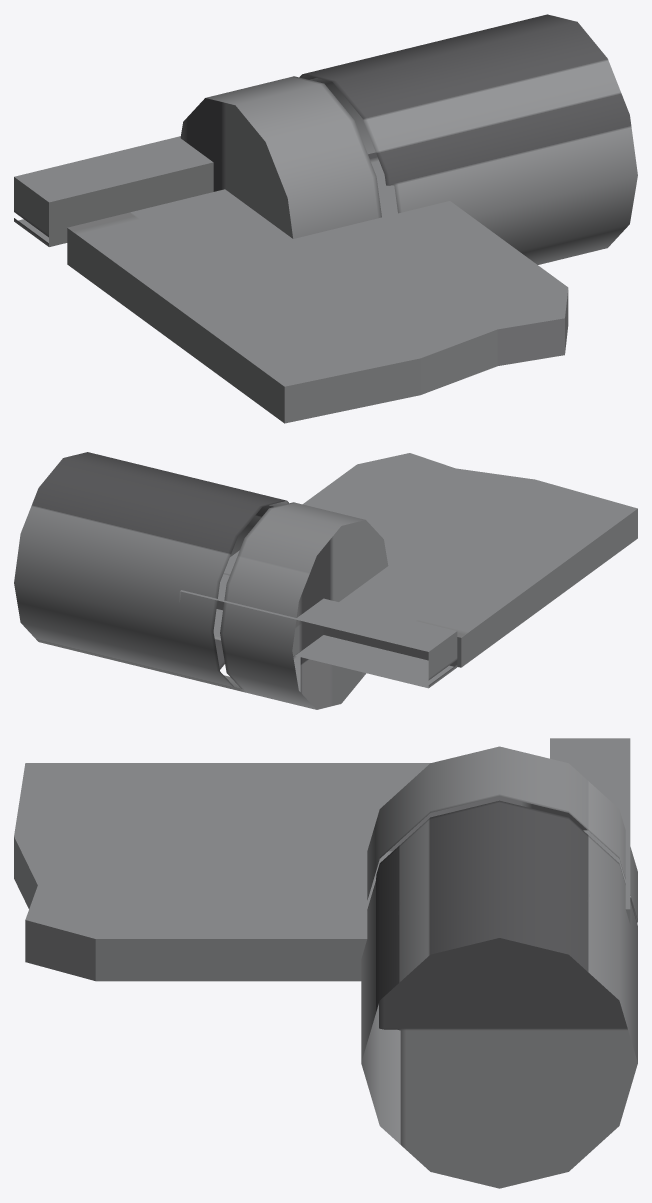
3 views of the same model, one above another, from view 1: azimuth 30°, elevation 25°; view 2: azimuth 150°, elevation 25°; view 3: azimuth 270°, elevation 25° (orthographic). The views are drawn at different scales.
Size of the model in its own units: 0.4904 by 0.2024 by 0.4563.
